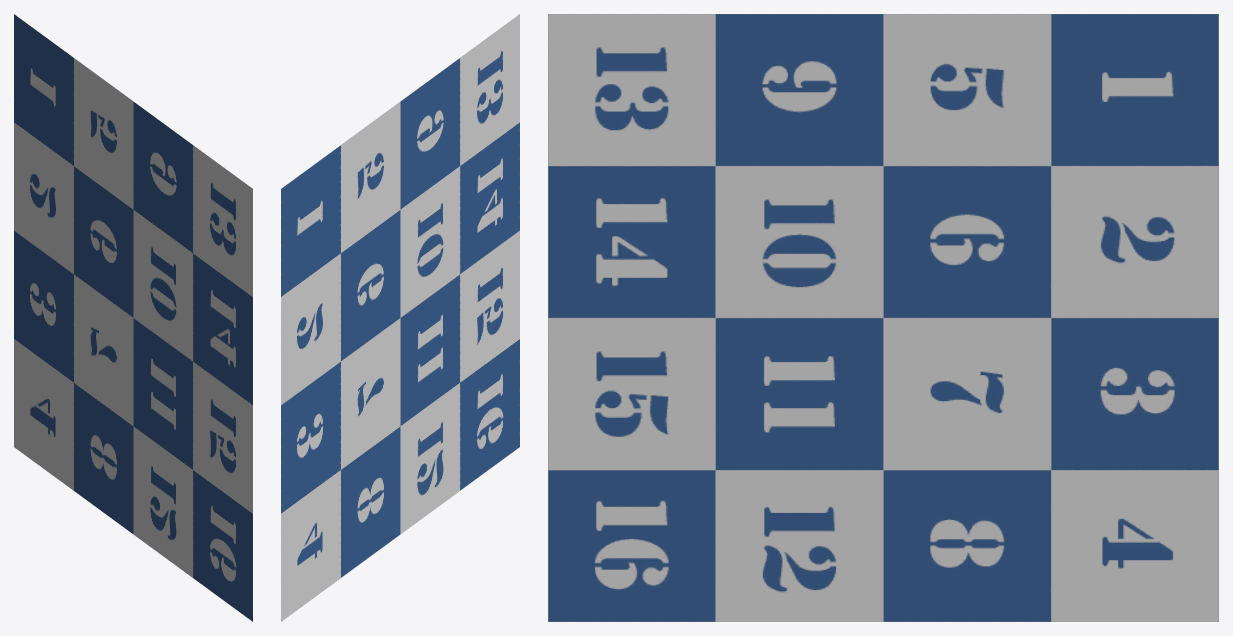
3 renders of one model, left to right at view 1: azimuth 30°, elevation 25°; view 2: azimuth 150°, elevation 25°; view 3: azimuth 270°, elevation 25°, orthographic. The views are drawn at different scales.
Visible parts, largest first — view 1: SM_e_Useful_Plane001; view 2: SM_e_Useful_Plane001; view 3: SM_e_Useful_Plane001.
Part boxes in pixels (x1,y1,x2,y2): SM_e_Useful_Plane001: (14, 14, 252, 621); SM_e_Useful_Plane001: (281, 14, 519, 621); SM_e_Useful_Plane001: (548, 14, 1218, 621).
Size of the model in its own units: 0 by 100 by 100.
